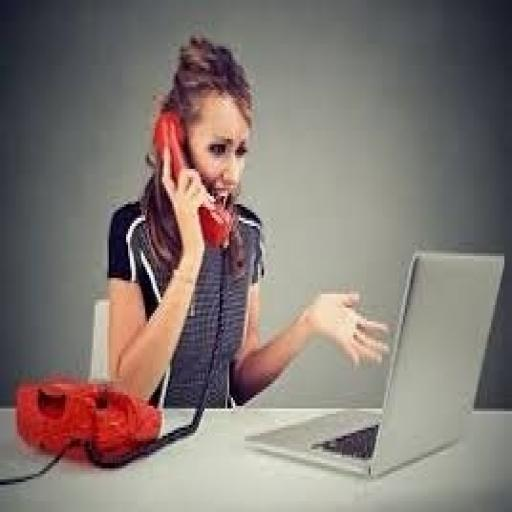calling: (103, 30, 394, 408)
